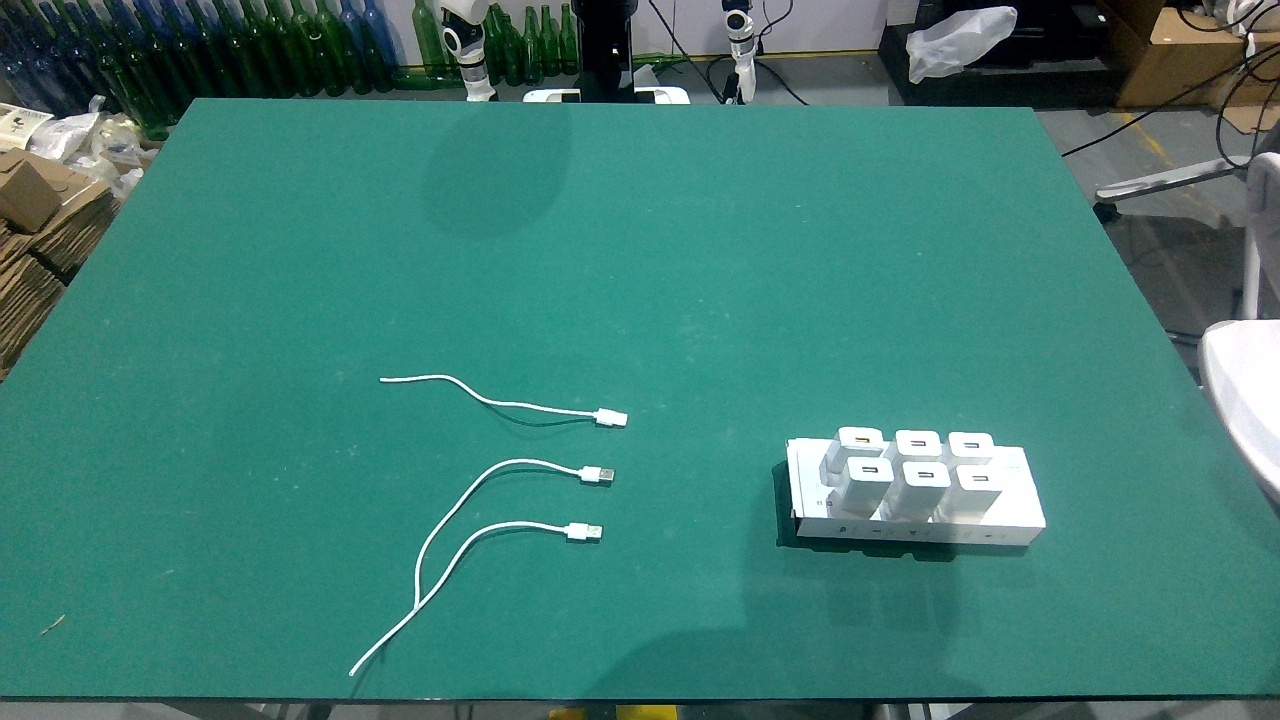usb_a_plug: (574, 403, 642, 431), (558, 462, 627, 484), (553, 520, 605, 542)
